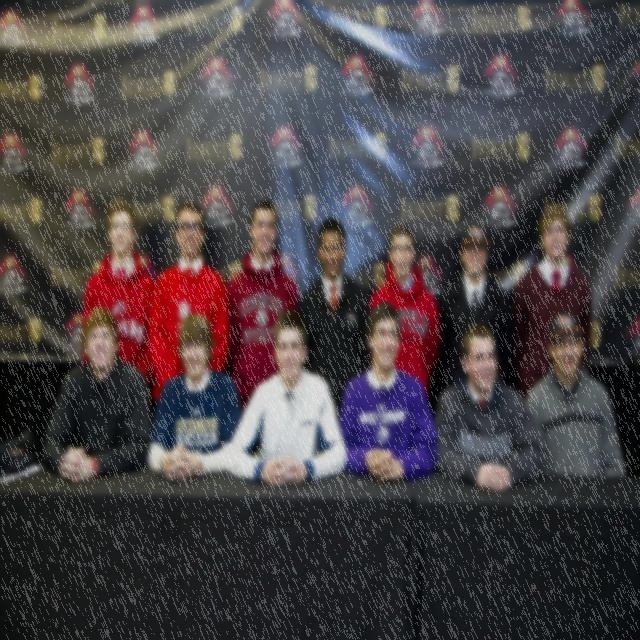pessoa: (223, 306, 348, 488), (39, 306, 152, 484), (434, 321, 548, 493), (336, 300, 438, 484), (80, 198, 160, 432), (508, 200, 596, 406), (148, 200, 234, 409), (526, 308, 628, 482), (146, 312, 244, 484), (226, 198, 301, 422), (296, 216, 371, 422), (438, 218, 516, 390), (368, 222, 442, 402)
